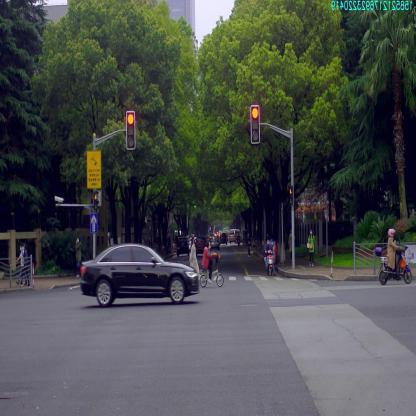traffic-light: (127, 111, 135, 149), (252, 105, 260, 143)
